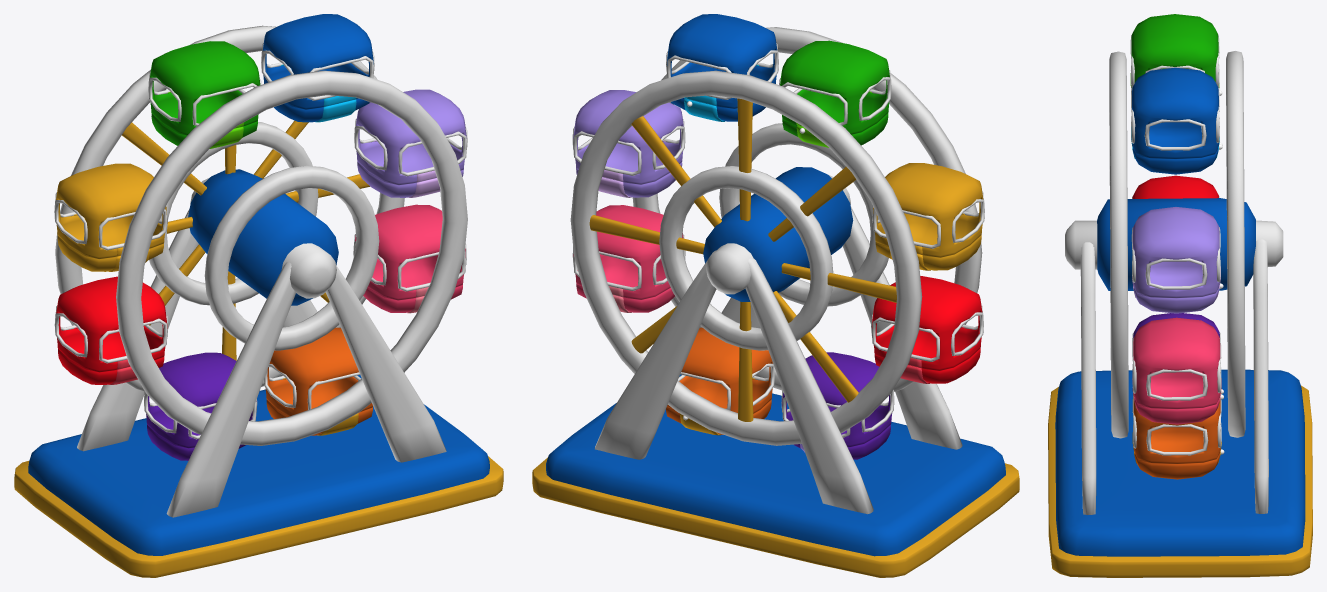
3 views of the same model, side by side, from view 1: azimuth 30°, elevation 25°; view 2: azimuth 150°, elevation 25°; view 3: azimuth 270°, elevation 25° (orthographic). The views are drawn at different scales.
Visible parts, largest first — view 1: Circle.125, Cube.808, Cube.807, Cylinder.091, Cube.851, Cube.001, Cube.019, Cube.004, Cube.007, Cube.010, Cube.013, Cube.016 (+13 smaller); view 2: Cube.808, Circle.125, Cube.807, Cylinder.091, Cube.851, Cube.001, Cube.019, Cube.004, Cube.007, Cube.010, Cube.013, Cube.016 (+13 smaller); view 3: Cube.808, Circle.125, Cube.807, Cube.010, Cube.007, Cube.004, Cube.001, Cube.013, Cylinder.091, Cylinder.092, Cube.019, Cube.012 (+5 smaller).
Part boxes in pixels (<box>): Circle.125: <box>55,25,467,445</box>; Cube.808: <box>14,375,503,577</box>; Cube.807: <box>77,209,446,517</box>; Cylinder.091: <box>188,169,338,305</box>; Cube.851: <box>56,163,166,271</box>; Cube.001: <box>150,41,260,145</box>; Cube.019: <box>56,276,167,384</box>; Cube.004: <box>262,14,373,122</box>; Cube.007: <box>356,89,466,197</box>; Cube.010: <box>355,204,465,312</box>; Cube.013: <box>265,327,372,435</box>; Cube.016: <box>146,352,256,460</box>; Cube.808: <box>532,374,1019,577</box>; Circle.125: <box>570,27,982,445</box>; Cube.807: <box>595,206,962,514</box>; Cylinder.091: <box>703,167,853,301</box>; Cube.851: <box>873,163,983,270</box>; Cube.001: <box>780,40,889,145</box>; Cube.019: <box>872,276,982,383</box>; Cube.004: <box>667,14,777,121</box>; Cube.007: <box>573,90,683,197</box>; Cube.010: <box>573,205,683,312</box>; Cube.013: <box>666,327,772,434</box>; Cube.016: <box>782,352,892,459</box>; Cube.808: <box>1048,369,1312,577</box>; Circle.125: <box>1109,51,1245,438</box>; Cube.807: <box>1080,239,1268,514</box>; Cube.010: <box>1133,317,1220,424</box>; Cube.007: <box>1132,207,1219,313</box>; Cube.004: <box>1132,67,1218,174</box>; Cube.001: <box>1131,14,1218,82</box>; Cube.013: <box>1133,399,1220,479</box>; Cylinder.091: <box>1097,198,1255,290</box>; Cylinder.092: <box>1065,220,1283,269</box>; Cube.019: <box>1132,175,1218,198</box>; Cube.012: <box>1132,338,1221,400</box>.
Size of the model in its own units: 18.56 by 20.91 by 11.47.
